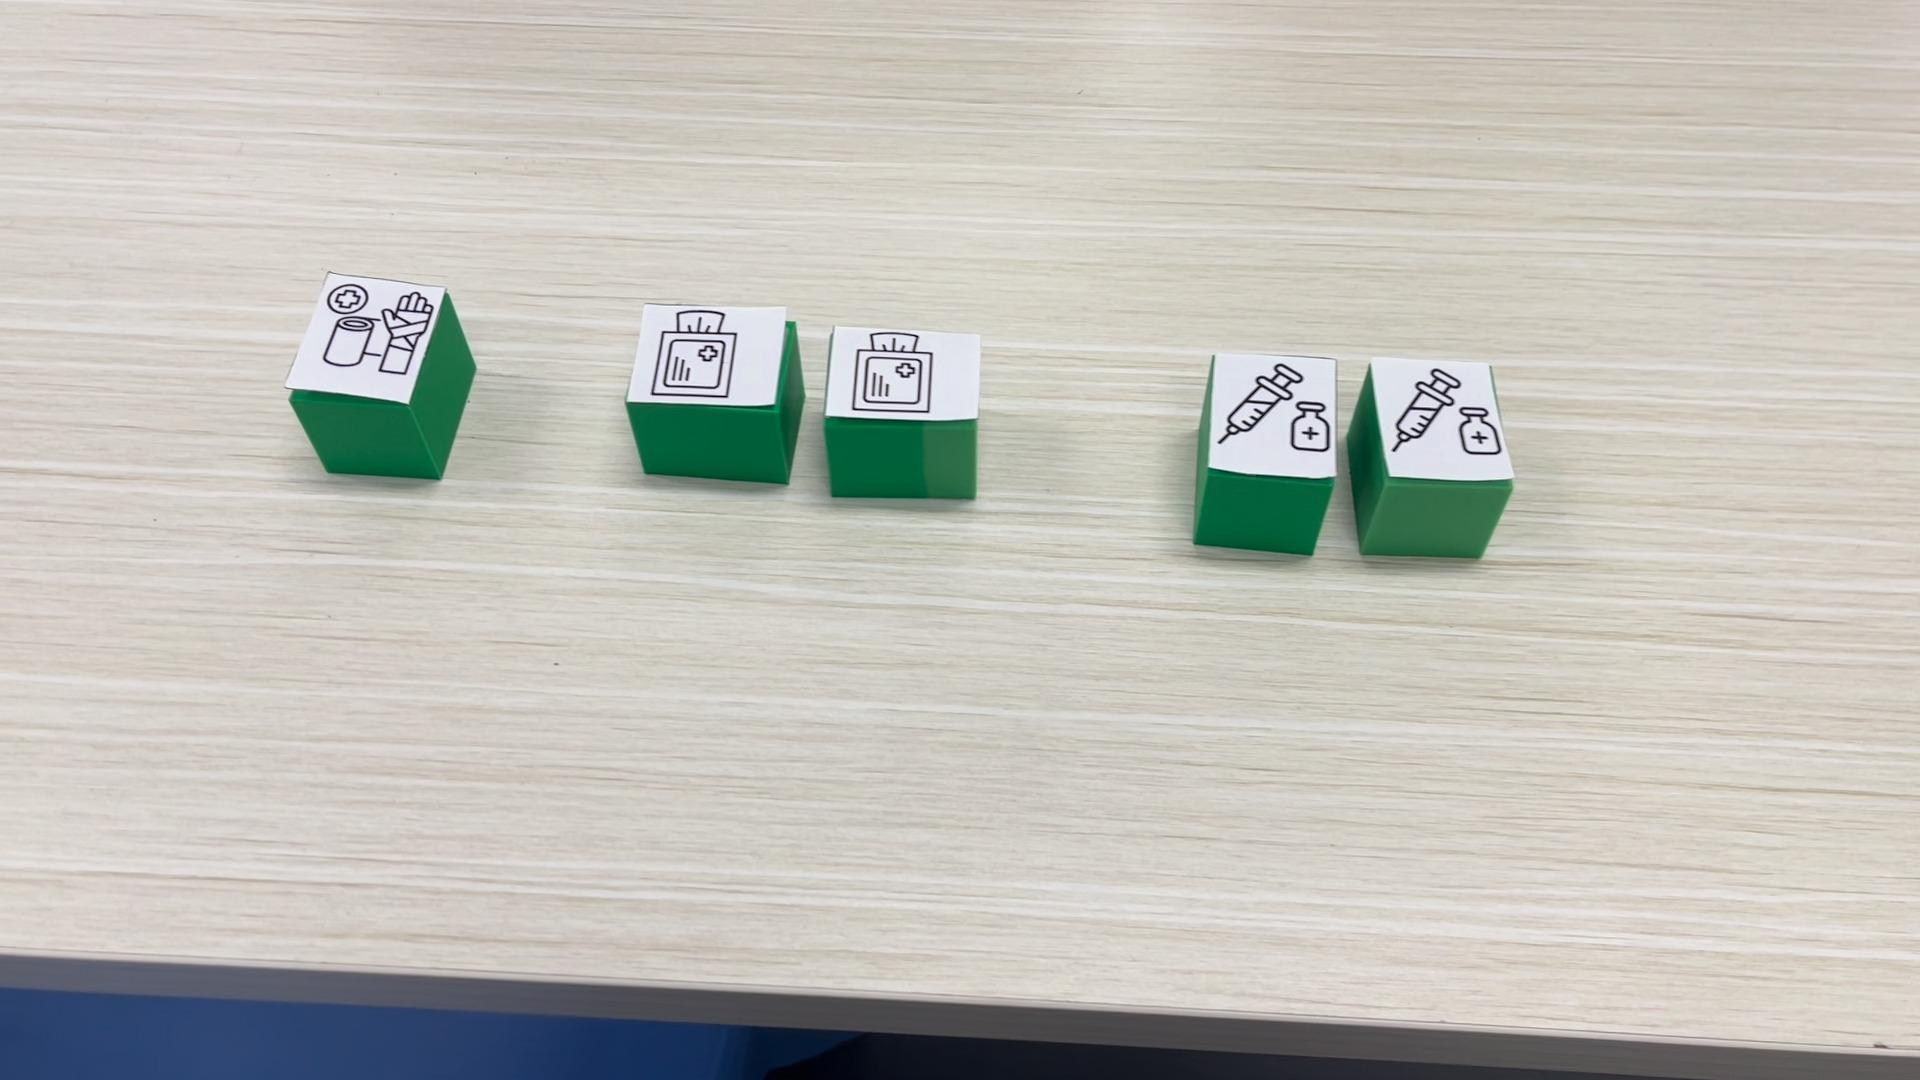Bandages: (285, 272, 475, 480)
Gauze: (625, 303, 808, 488), (823, 324, 986, 498)
antiseptic cream: (1346, 357, 1513, 556), (1193, 349, 1338, 556)
